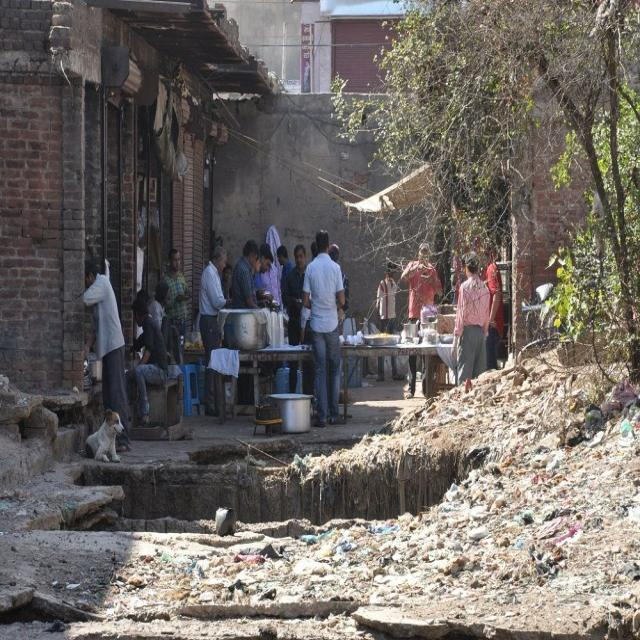garbage: (96, 445, 640, 640)
